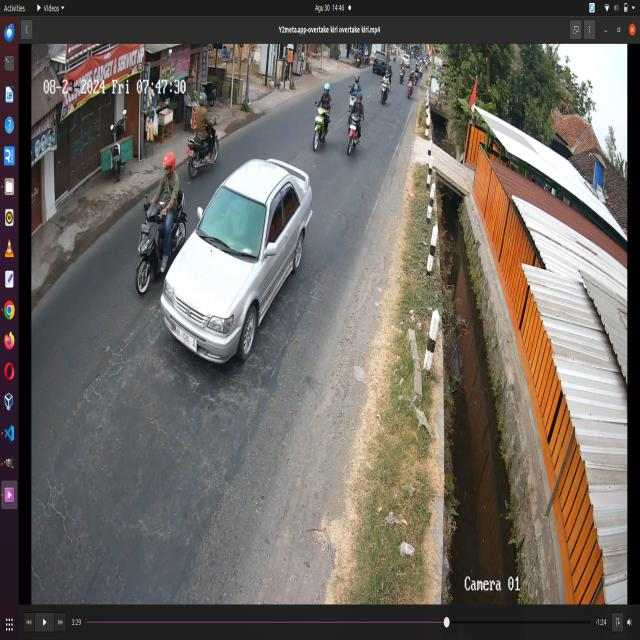person_without_seatbelt: (222, 187, 250, 245)
